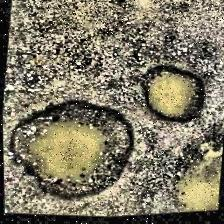pothole: (1, 91, 138, 209), (136, 62, 209, 130)
